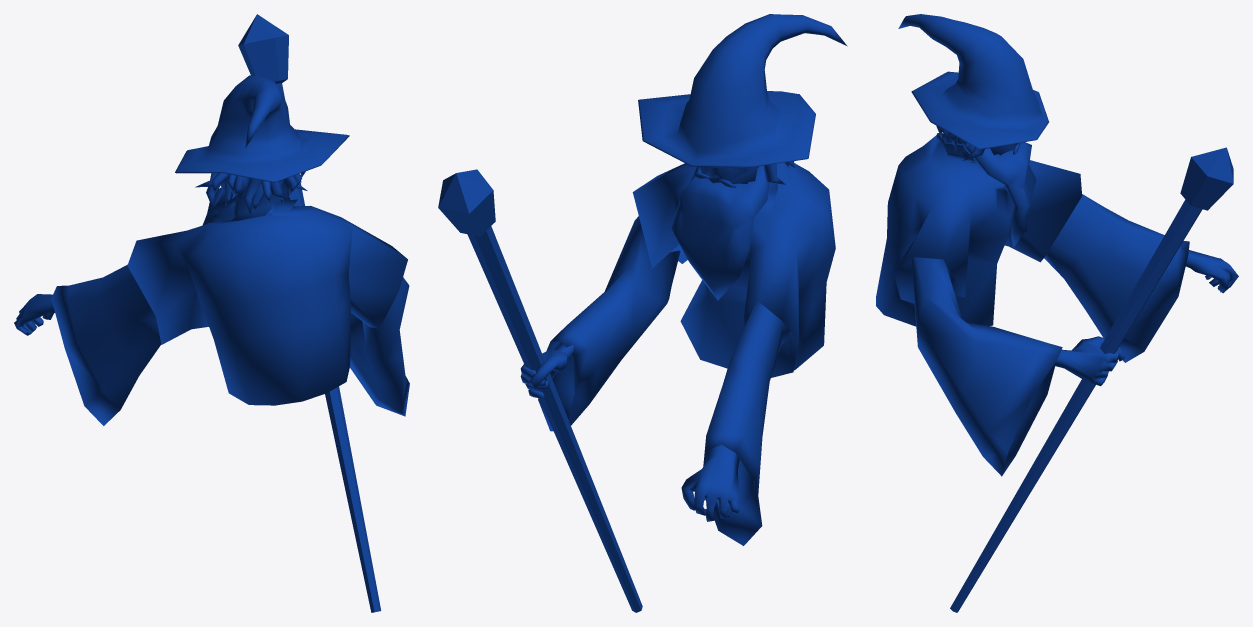
The model's file is top_000042.obj.
3 renders of one model, left to right at view 1: azimuth 30°, elevation 25°; view 2: azimuth 150°, elevation 25°; view 3: azimuth 270°, elevation 25°, orthographic. The views are drawn at different scales.
Parts seen in each view (by area): view 1: Wizard.002_Plane.002; view 2: Wizard.002_Plane.002; view 3: Wizard.002_Plane.002.
Boxes of the visible parts, x1,y1,x2,y2 form: Wizard.002_Plane.002: (14, 14, 409, 612); Wizard.002_Plane.002: (438, 14, 847, 612); Wizard.002_Plane.002: (876, 14, 1238, 612).
Bounding box in the file's own units: 0.9596 × 1.78 × 1.08.
